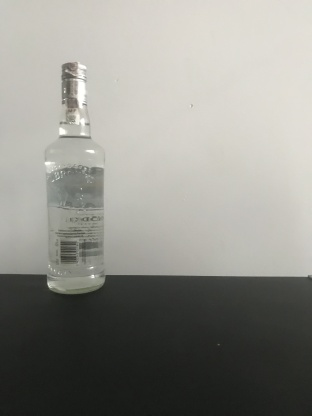nakretka: (59, 60, 89, 105)
